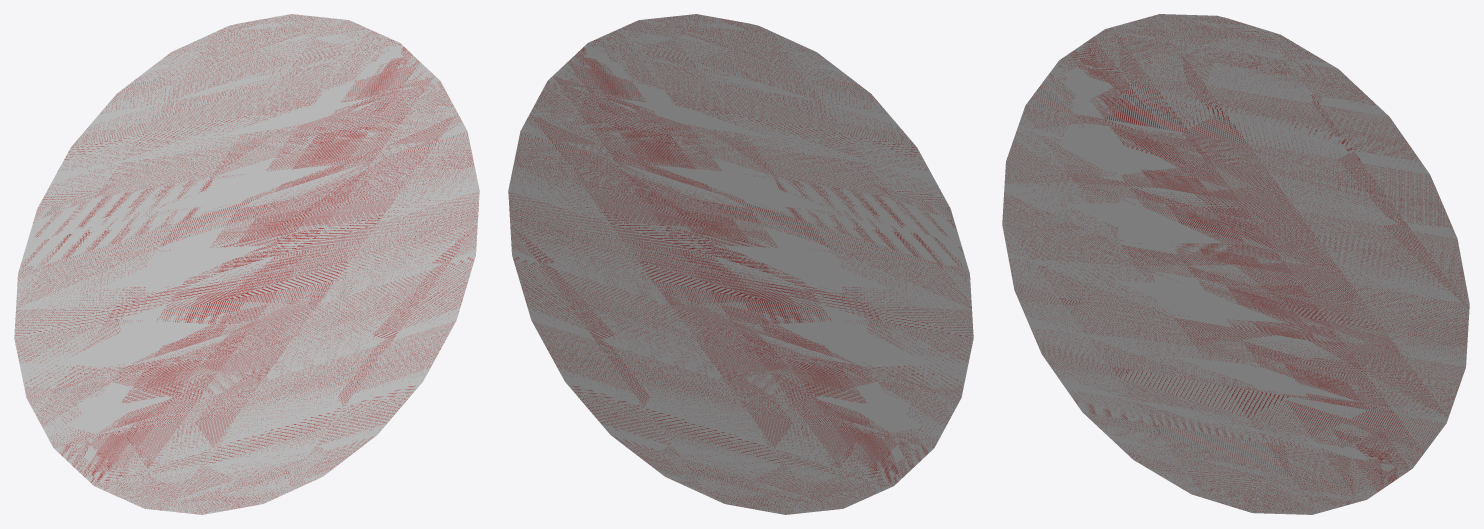
Rendered from original-6.obj.
3 views of the same model, side by side, from view 1: azimuth 30°, elevation 25°; view 2: azimuth 150°, elevation 25°; view 3: azimuth 330°, elevation 25° (orthographic).
Parts seen in each view (by area): view 1: 3dw.1f419ba839c771df6d07533ccc0d1b77/Model/Group_1_1/Group_1/mes; view 2: 3dw.1f419ba839c771df6d07533ccc0d1b77/Model/Group_1_1/Group_1/mes; view 3: 3dw.1f419ba839c771df6d07533ccc0d1b77/Model/Group_1_1/Group_1/mes.
Part boxes in pixels (left/top/right/bottom): 3dw.1f419ba839c771df6d07533ccc0d1b77/Model/Group_1_1/Group_1/mes: left=14, top=14, right=479, bottom=514; 3dw.1f419ba839c771df6d07533ccc0d1b77/Model/Group_1_1/Group_1/mes: left=508, top=14, right=973, bottom=514; 3dw.1f419ba839c771df6d07533ccc0d1b77/Model/Group_1_1/Group_1/mes: left=1002, top=14, right=1469, bottom=514.
Bounding box in the file's own units: 0.0595 × 0.0594 × 0.
